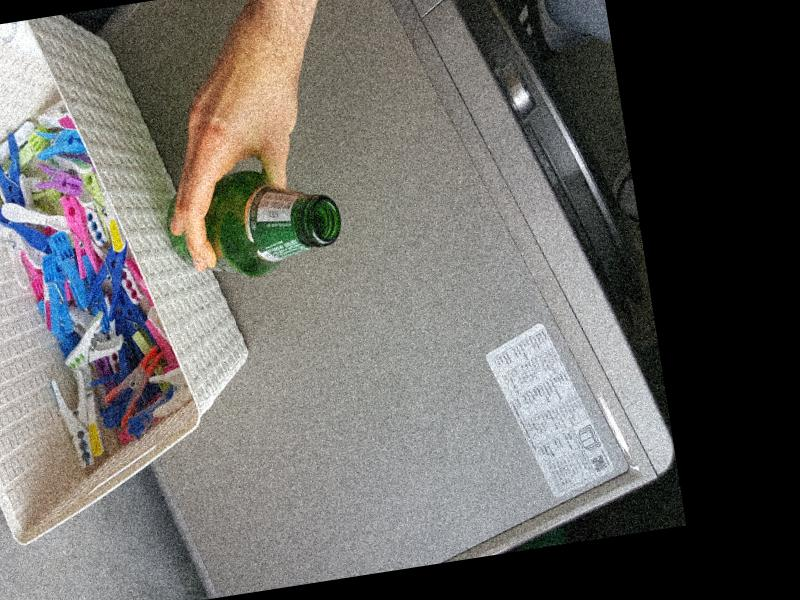Beer: (161, 158, 347, 288)
